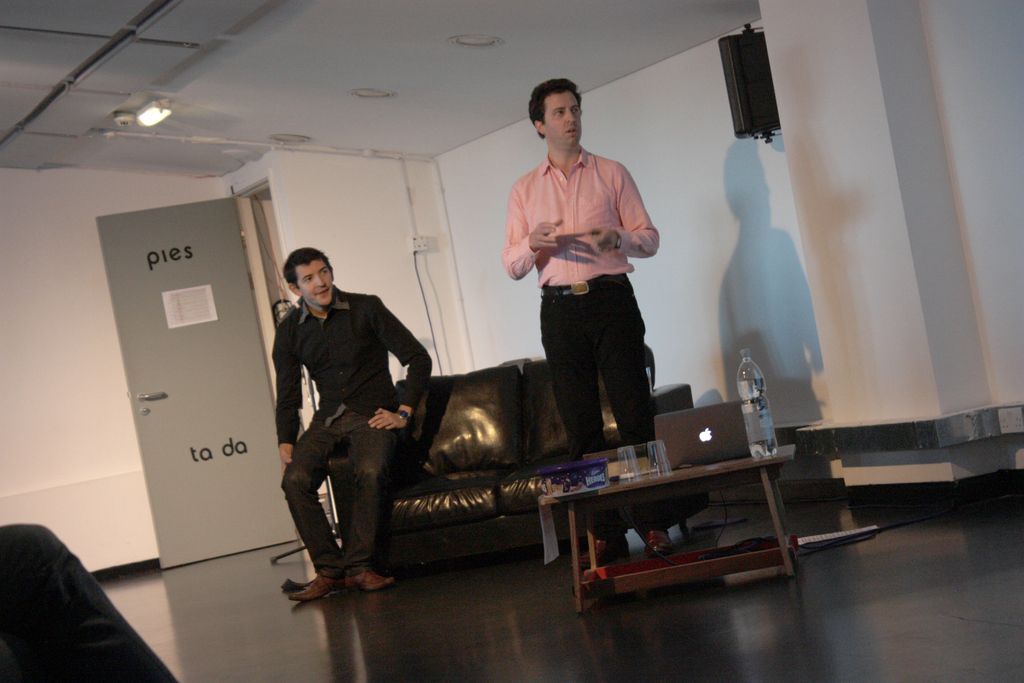Footwear: (567, 528, 629, 572), (339, 563, 396, 592), (293, 573, 351, 598), (642, 525, 676, 559)
